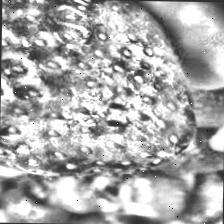Powdery Mildew Fruit: (0, 0, 199, 179)
